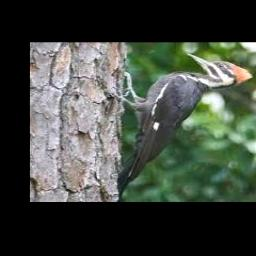Woodpecker: (115, 54, 254, 200)
